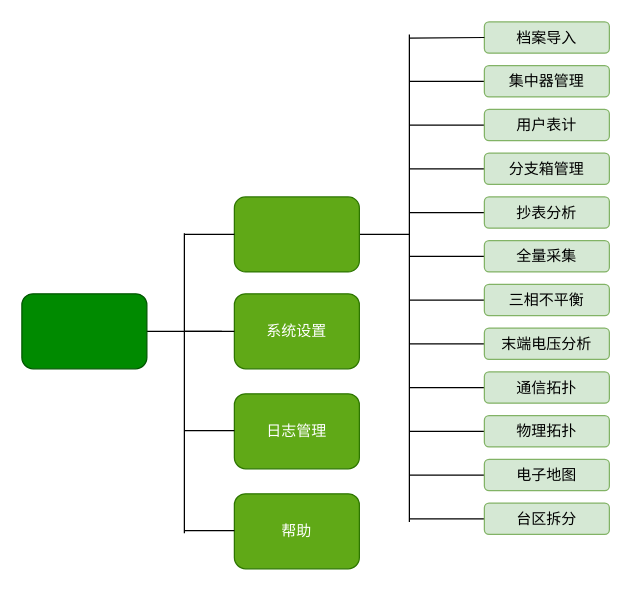
Some shapes in this 631 by 591 pixel diagram are drawn without their labels. Each missing label, with the centre of its shape:
拓扑分析: (x=296, y=234)
拓扑分析APP: (x=84, y=330)
